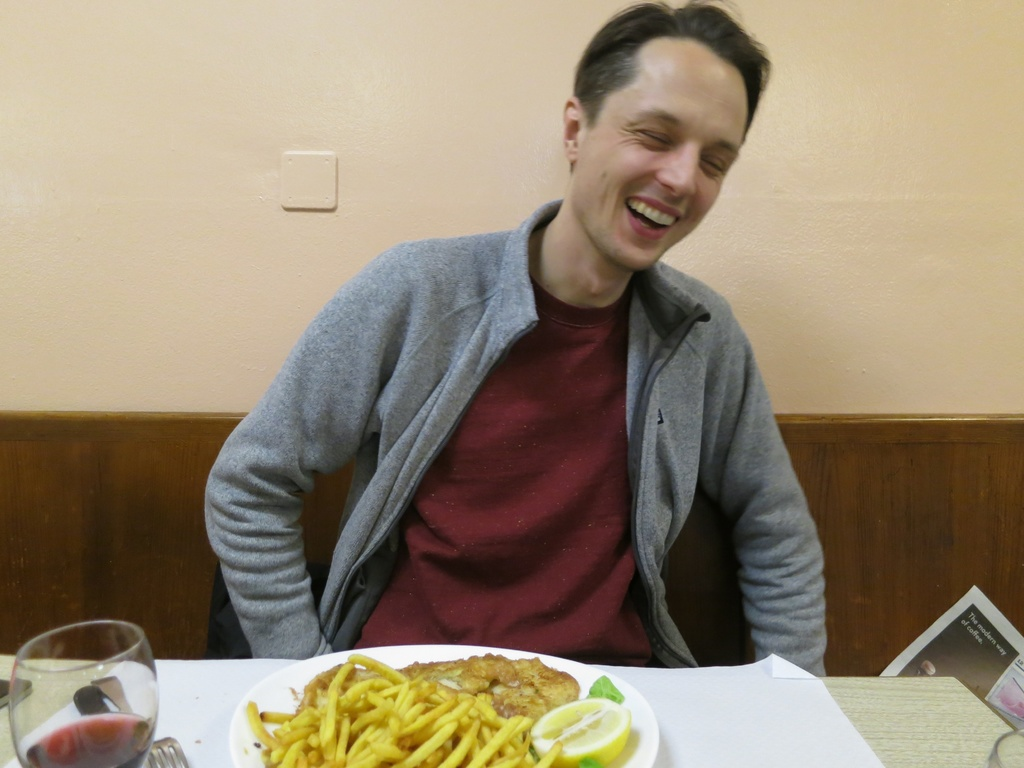French fries: (250, 679, 612, 768)
